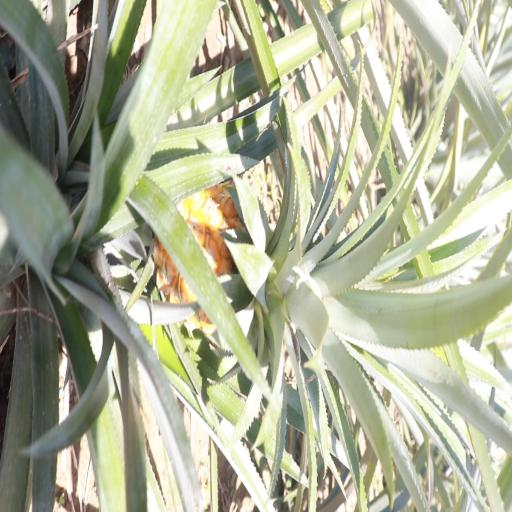Pineapple - v8 v1: (156, 178, 380, 358)
